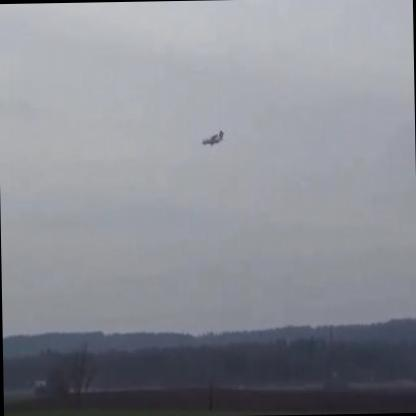plane: (201, 132, 223, 149)
